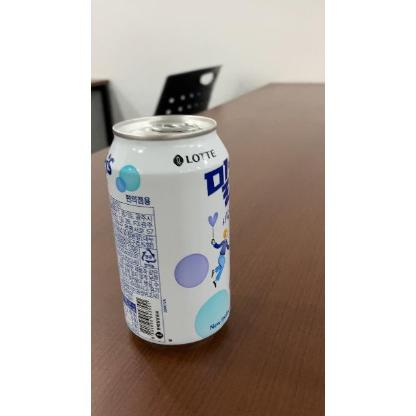Can: (104, 112, 234, 348)
